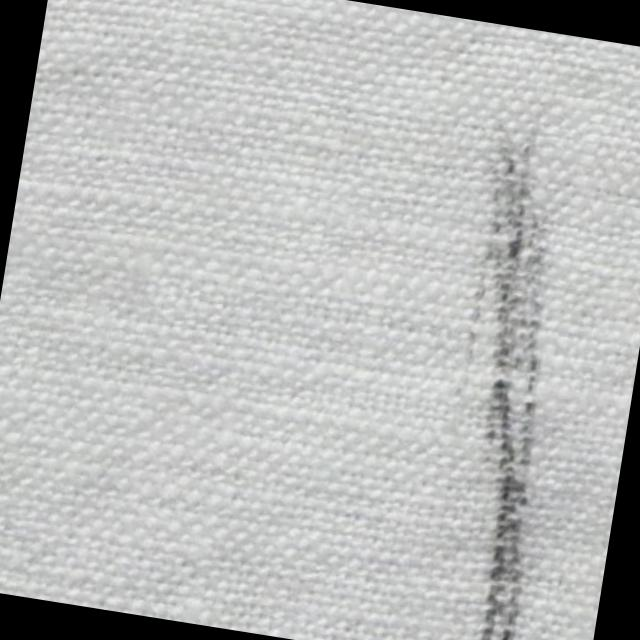Stain: (408, 136, 596, 640)
